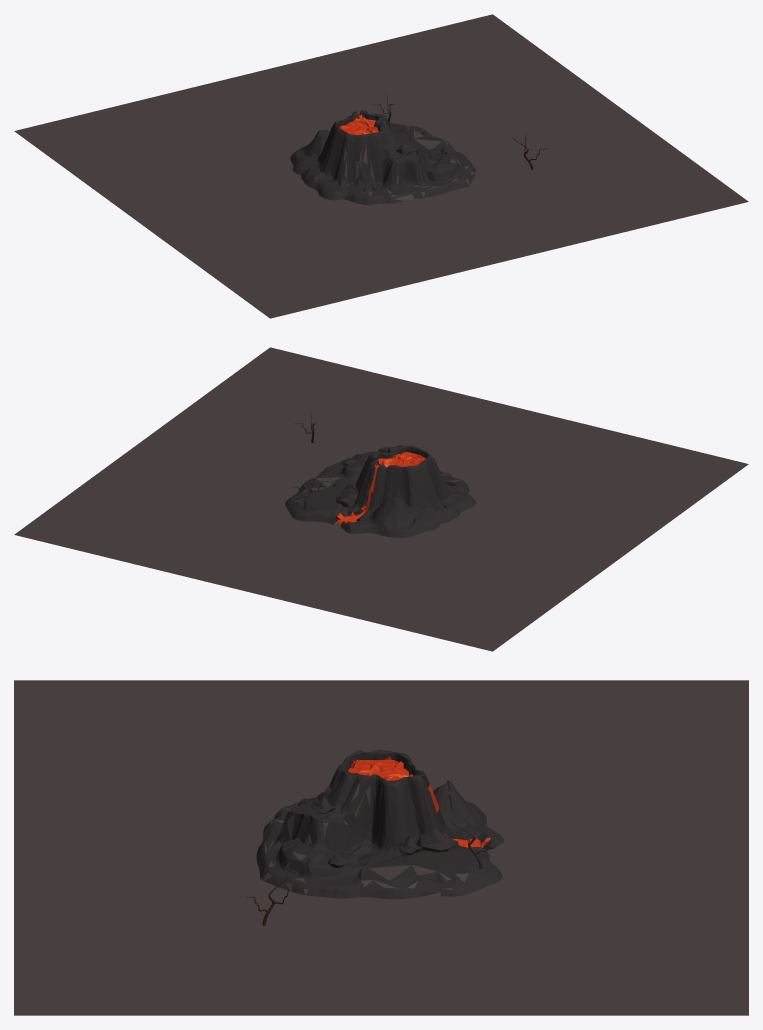
Rendered from volcano.fbx.
The picture shows the model from 3 angles, top to bottom: view 1: azimuth 30°, elevation 25°; view 2: azimuth 150°, elevation 25°; view 3: azimuth 270°, elevation 25°; orthographic projection. The views are drawn at different scales.
Parts seen in each view (by area): view 1: pPlane3, pPlane1; view 2: pPlane3, pPlane1; view 3: pPlane3, pPlane1, pPlane2, pCube2.
Boxes of the visible parts, left/top/right/bottom form: pPlane3: left=14, top=14, right=748, bottom=318; pPlane1: left=290, top=110, right=475, bottom=205; pPlane3: left=14, top=347, right=748, bottom=651; pPlane1: left=285, top=445, right=476, bottom=537; pPlane3: left=14, top=680, right=748, bottom=1015; pPlane1: left=256, top=749, right=504, bottom=899; pPlane2: left=348, top=756, right=412, bottom=784; pCube2: left=416, top=828, right=452, bottom=852.
Size of the model in its own units: 22855 by 2518 by 21185.
